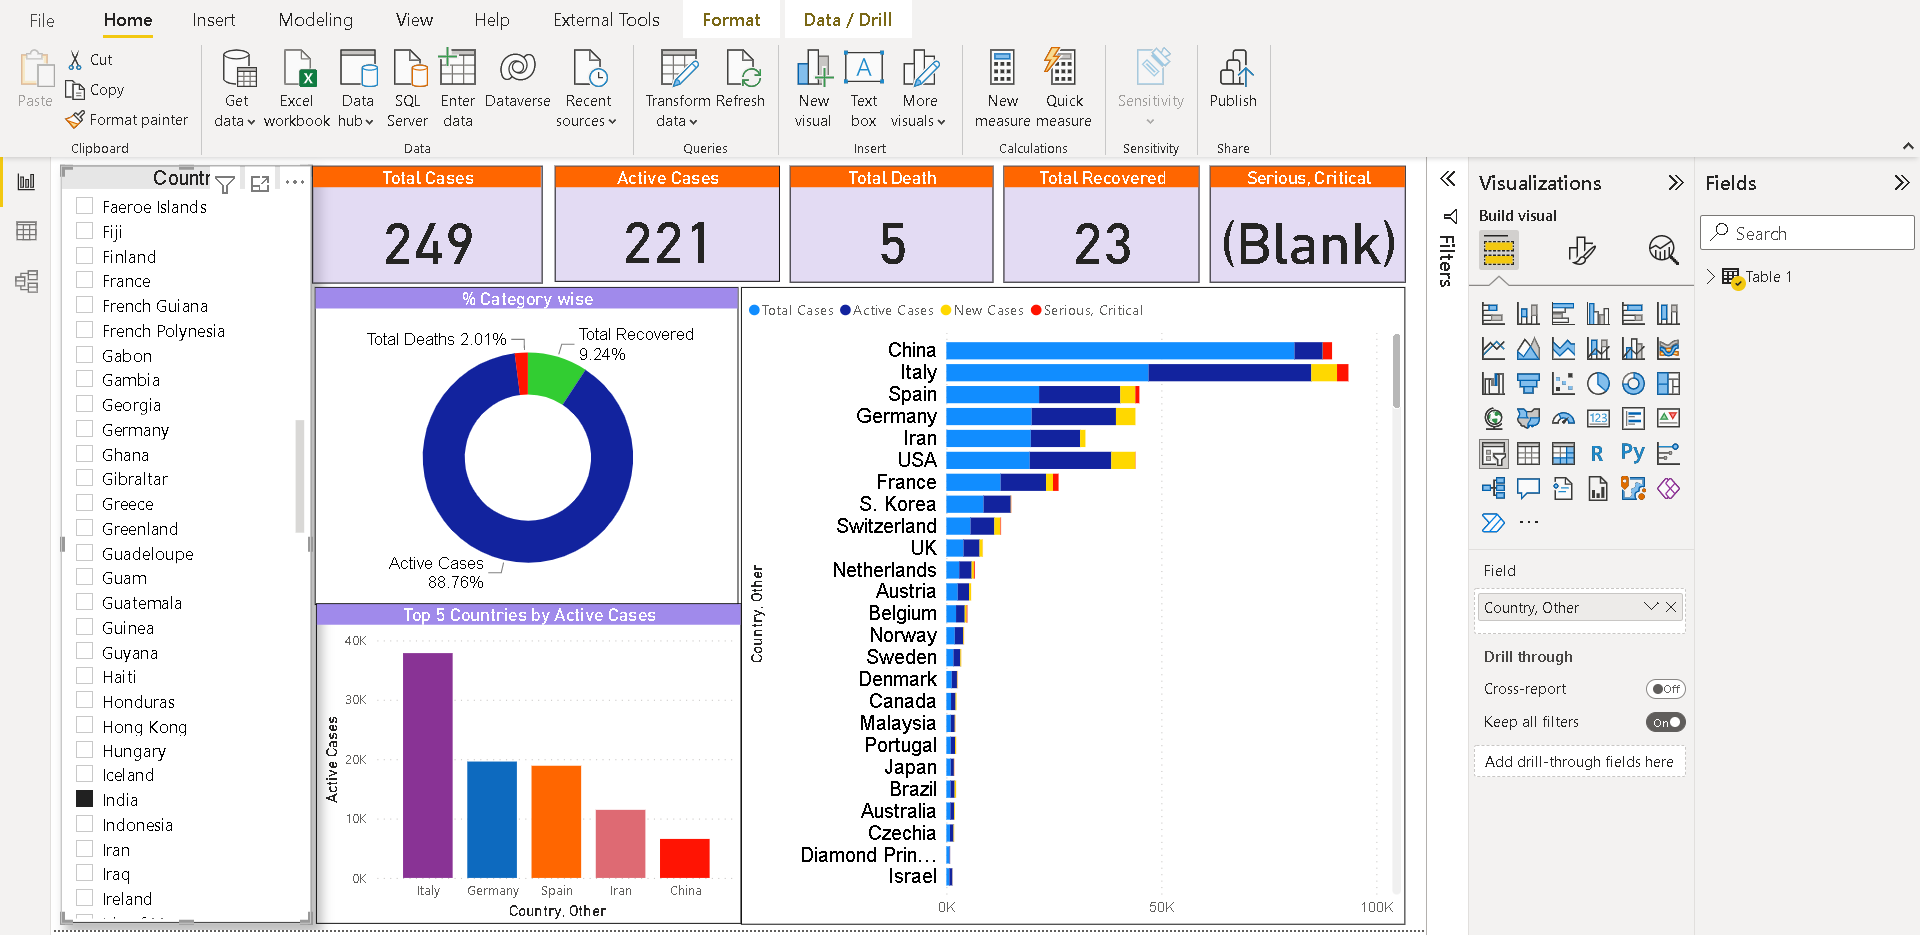

The dashboard page shown, as its layout file describes it:
{"tool":"powerbi","page":{"name":"Page 1","canvas":[1280,720],"ordinal":0},"visuals":[{"type":"slicer","title":"Country","fields":{"Values":["Table 1.Country, Other"]},"box":[9.6,8.3,232.7,704.9],"z":0},{"type":"card","title":"Total Cases","fields":{"Values":["Sum(Table 1.Total Cases)"]},"box":[243.2,8.1,214.1,109.4],"z":1000},{"type":"card","title":"Total Death","fields":{"Values":["Sum(Table 1.Total Deaths)"]},"box":[687.2,8.2,189.7,108.9],"z":2000},{"type":"card","title":"Active Cases","fields":{"Values":["Sum(Table 1.Active Cases)"]},"box":[469.5,8.2,209.6,107.7],"z":3000},{"type":"card","title":"Total Recovered","fields":{"Values":["Sum(Table 1.Total Recovered)"]},"box":[886.2,8.2,182.6,108.9],"z":4000},{"type":"donutChart","title":"% Category wise","fields":{"Y":["Sum(Table 1.Total Recovered)","Sum(Table 1.Active Cases)","Sum(Table 1.Total Deaths)"]},"box":[245.9,120.6,394.5,296.2],"z":5000},{"type":"barChart","fields":{"Category":["Table 1.Country, Other"],"Y":["Sum(Table 1.Total Cases)","Sum(Table 1.Active Cases)","Sum(Table 1.New Cases)","Sum(Table 1.Serious, Critical)"]},"box":[642.9,121.1,618.1,593.3],"z":6000},{"type":"clusteredColumnChart","title":"Top 5 Countries by Active Cases","fields":{"Category":["Table 1.Country, Other"],"Y":["Sum(Table 1.Active Cases)"]},"box":[246.4,415.7,396.4,298.7],"z":7000},{"type":"card","title":"Serious, Critical","fields":{"Values":["Sum(Table 1.Serious, Critical)"]},"box":[1078.2,8.2,182.6,108.9],"z":8000}]}

Visuals, with their boxes on the page's 1280x720 design canvas (x1, y1, x2, y2). These are canvas units, not pixel positions in the 1920x935 screenshot, which may show the page scaled, cropped or inside an application window:
"Country" slicer: (10, 8, 242, 713)
"Total Cases" card: (243, 8, 457, 118)
"Total Death" card: (687, 8, 877, 117)
"Active Cases" card: (470, 8, 679, 116)
"Total Recovered" card: (886, 8, 1069, 117)
"% Category wise" donutChart: (246, 121, 640, 417)
barChart - Table 1.Country, Other x Sum(Table 1.Total Cases): (643, 121, 1261, 714)
"Top 5 Countries by Active Cases" clusteredColumnChart: (246, 416, 643, 714)
"Serious, Critical" card: (1078, 8, 1261, 117)
